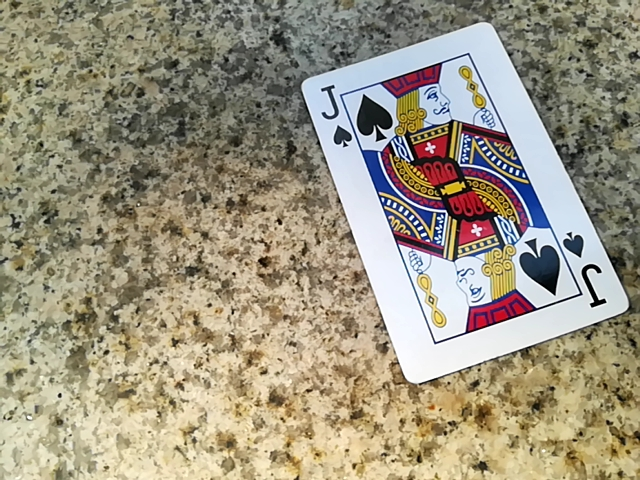ht j: (283, 17, 610, 376)
